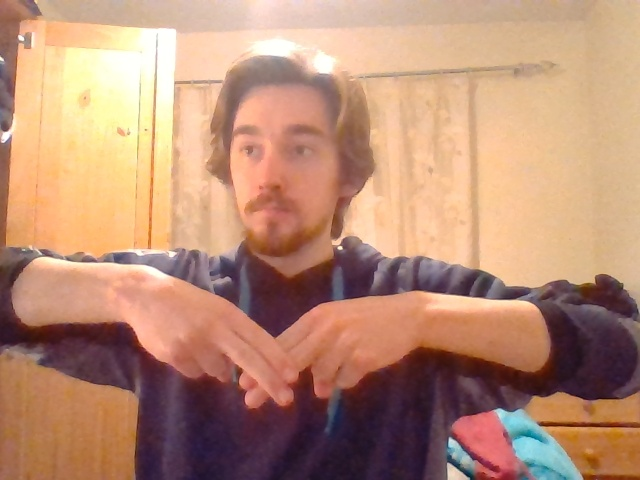father: (218, 297, 332, 409)
